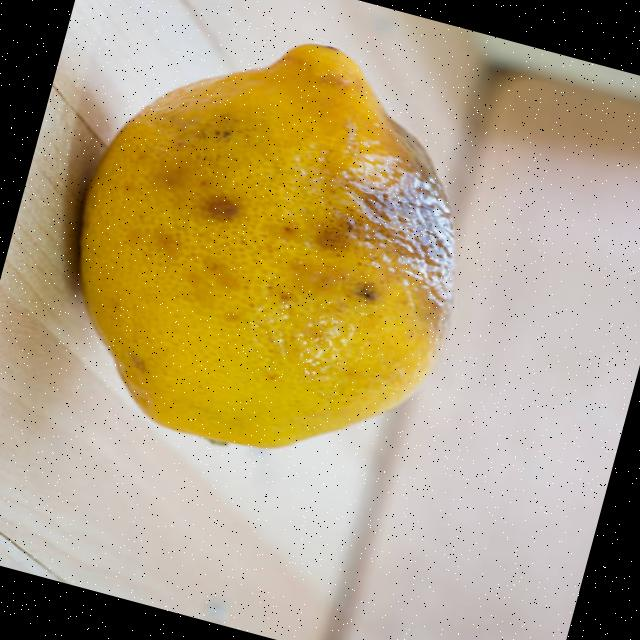overripe: (31, 0, 542, 502)
